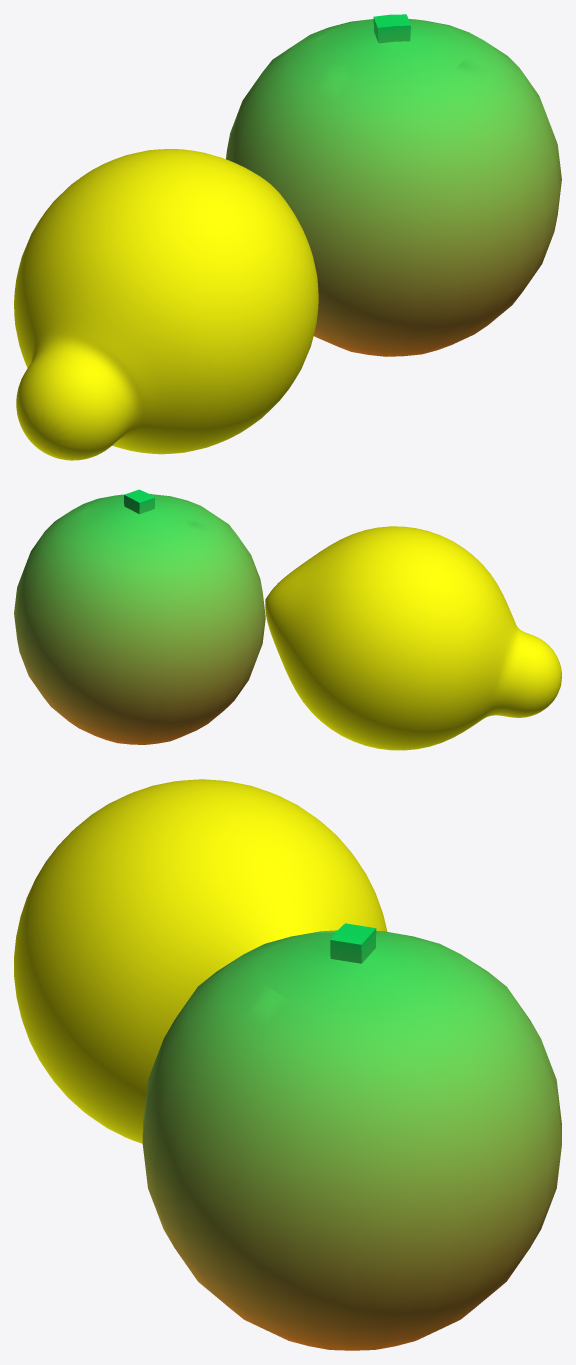
File: orange31.glb
3 renders of one model, top to bottom at view 1: azimuth 30°, elevation 25°; view 2: azimuth 150°, elevation 25°; view 3: azimuth 270°, elevation 25°, orthographic. The views are drawn at different scales.
Size of the model in its own units: 0.6304 by 0.3171 by 0.3932.
